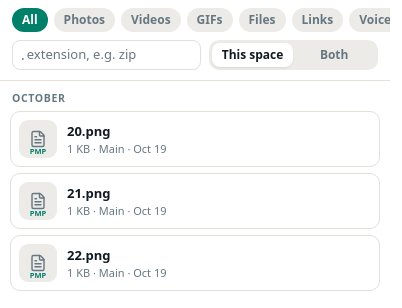
Scenario: MediaGallery › with an extension filter › leaves the fallback off with 3 or more matches, and without an extension
Type "pmp" into the field labelled "extension".
click(109, 55); type("pmp")  # box top-left (27, 46), bottom-right (192, 64)
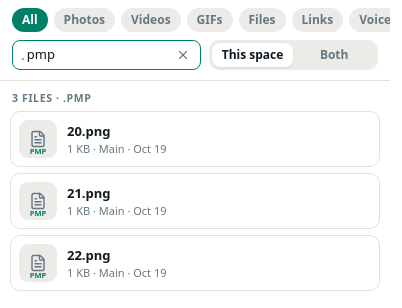
Check: the heading "3 files · .pmp" is shown, box top-left (12, 91), bottom-right (92, 105)
